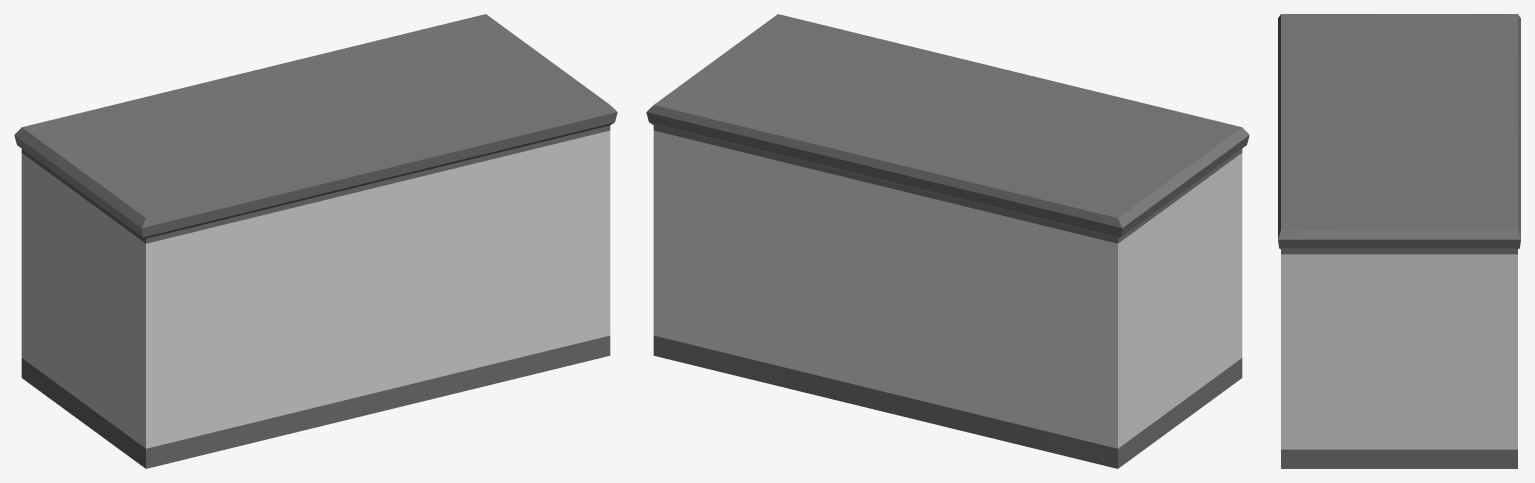
The model's file is aquarium.fbx.
The picture shows the model from 3 angles, left to right: view 1: azimuth 30°, elevation 25°; view 2: azimuth 150°, elevation 25°; view 3: azimuth 270°, elevation 25°; orthographic projection. The views are drawn at different scales.
Parts seen in each view (by area): view 1: aquarium; view 2: aquarium; view 3: aquarium.
Boxes of the visible parts, x1,y1,x2,y2 form: aquarium: (14,14,617,468); aquarium: (646,14,1249,468); aquarium: (1278,14,1520,468).
Size of the model in its own units: 3829 by 1928 by 1776.
